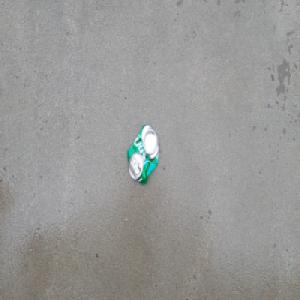SodaCan: (126, 123, 160, 186)
